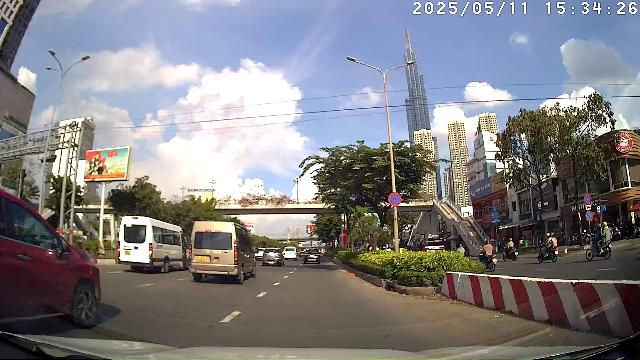130-cam-dung-va-do-xe: (388, 192, 402, 207), (584, 193, 592, 205)
131a-cam-do-xe: (585, 210, 594, 222)
